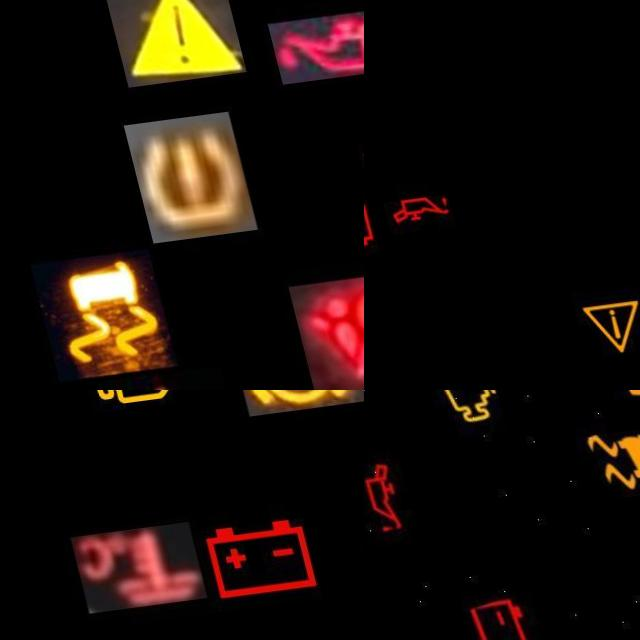Central Warning lamp: (100, 0, 238, 91), (320, 453, 364, 583)
Engine cooling system: (48, 525, 181, 614)
